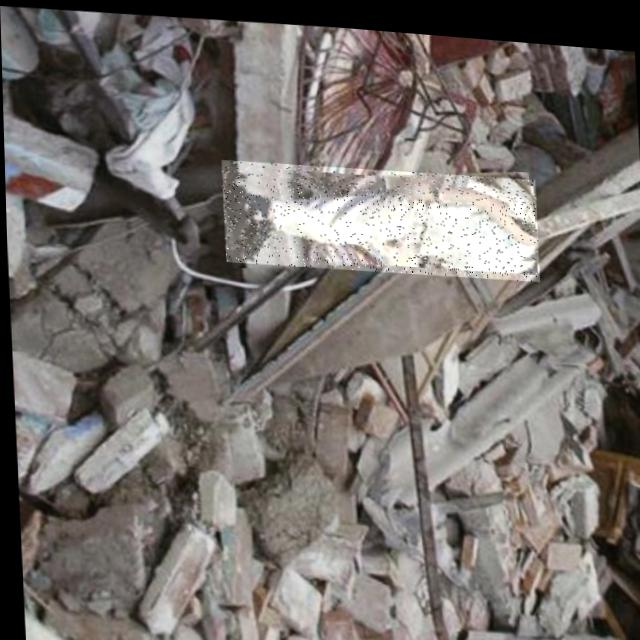Person in Rubble: (219, 150, 537, 277)
